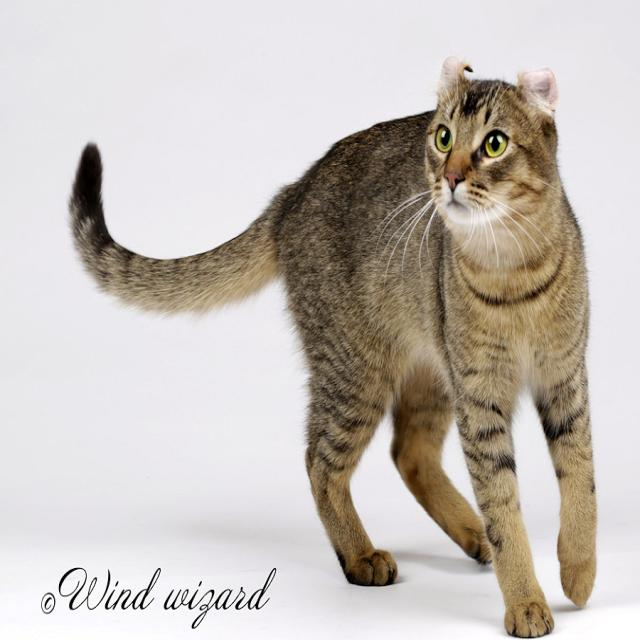American Curl: (65, 48, 600, 640)
